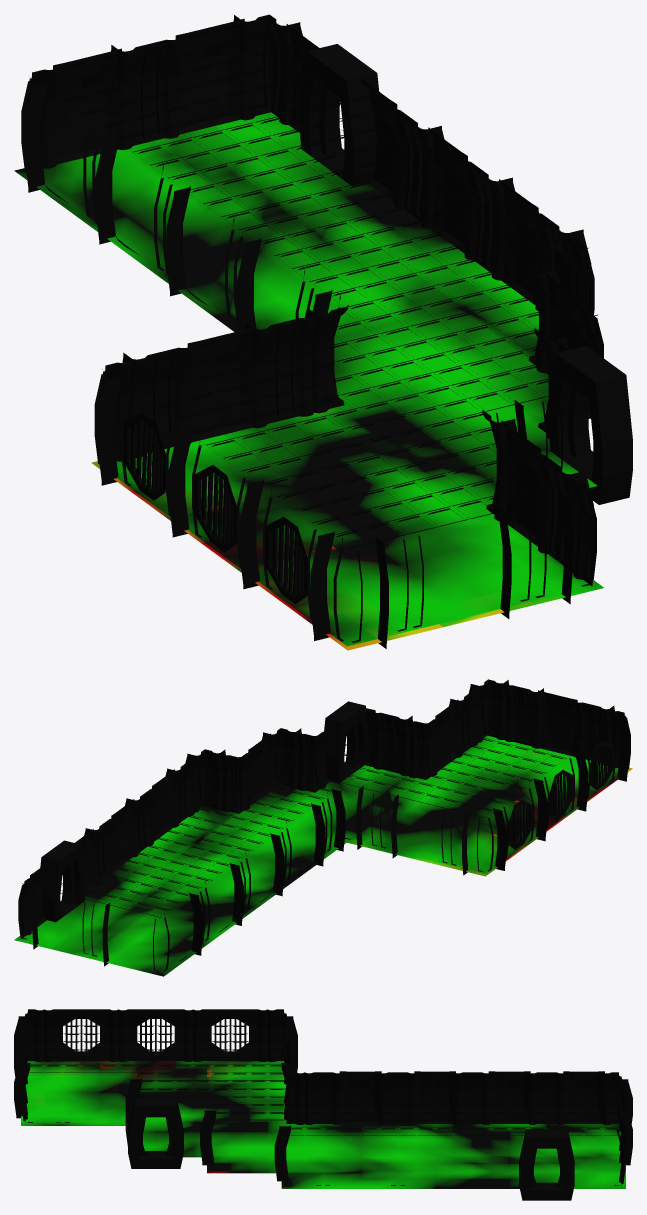
Rendered from generator_observatory.glb.
3 renders of one model, top to bottom at view 1: azimuth 30°, elevation 25°; view 2: azimuth 150°, elevation 25°; view 3: azimuth 270°, elevation 25°, orthographic. The views are drawn at different scales.
Parts seen in each view (by area): view 1: Generator_Observatory_Floor, Generator_Observatory_Wall_Panels, Generator_Observatory_Stone_Wall, Generator_Observatory_Ceiling, Generator_Observatory_Doorframes; view 2: Generator_Observatory_Floor, Generator_Observatory_Wall_Panels, Generator_Observatory_Ceiling, Generator_Observatory_Stone_Wall, Generator_Observatory_Doorframes; view 3: Generator_Observatory_Floor, Generator_Observatory_Wall_Panels, Generator_Observatory_Ceiling, Generator_Observatory_Stone_Wall, Generator_Observatory_Doorframes.
Part boxes in pixels (x1,y1,x2,y2): Generator_Observatory_Floor: [14, 112, 603, 650]; Generator_Observatory_Wall_Panels: [21, 14, 603, 648]; Generator_Observatory_Stone_Wall: [38, 18, 583, 546]; Generator_Observatory_Ceiling: [33, 17, 598, 548]; Generator_Observatory_Doorframes: [300, 44, 632, 504]; Generator_Observatory_Floor: [14, 735, 632, 976]; Generator_Observatory_Wall_Panels: [18, 679, 630, 971]; Generator_Observatory_Ceiling: [22, 681, 623, 917]; Generator_Observatory_Stone_Wall: [29, 690, 577, 961]; Generator_Observatory_Doorframes: [40, 701, 367, 922]; Generator_Observatory_Floor: [21, 1061, 625, 1188]; Generator_Observatory_Wall_Panels: [14, 1009, 632, 1185]; Generator_Observatory_Ceiling: [26, 1010, 620, 1135]; Generator_Observatory_Stone_Wall: [19, 1036, 627, 1163]; Generator_Observatory_Doorframes: [128, 1098, 574, 1200].
Size of what is drawn, in the model's own units: 17.25 by 3.75 by 33.25.
